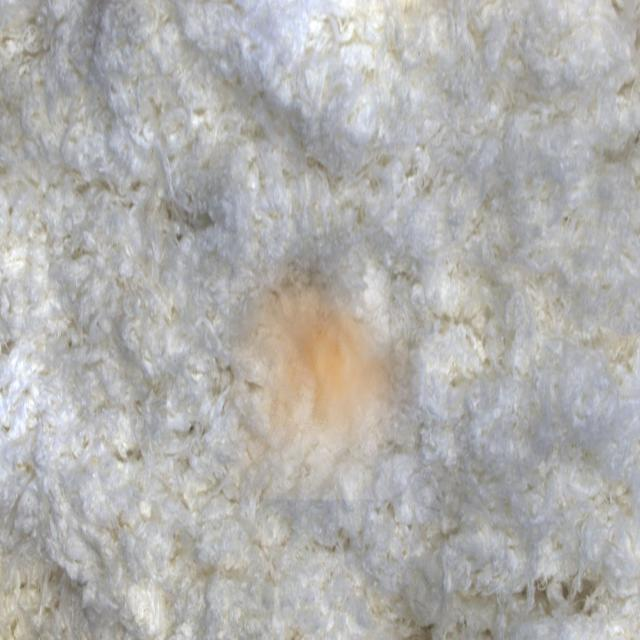dust: (229, 256, 420, 500)
